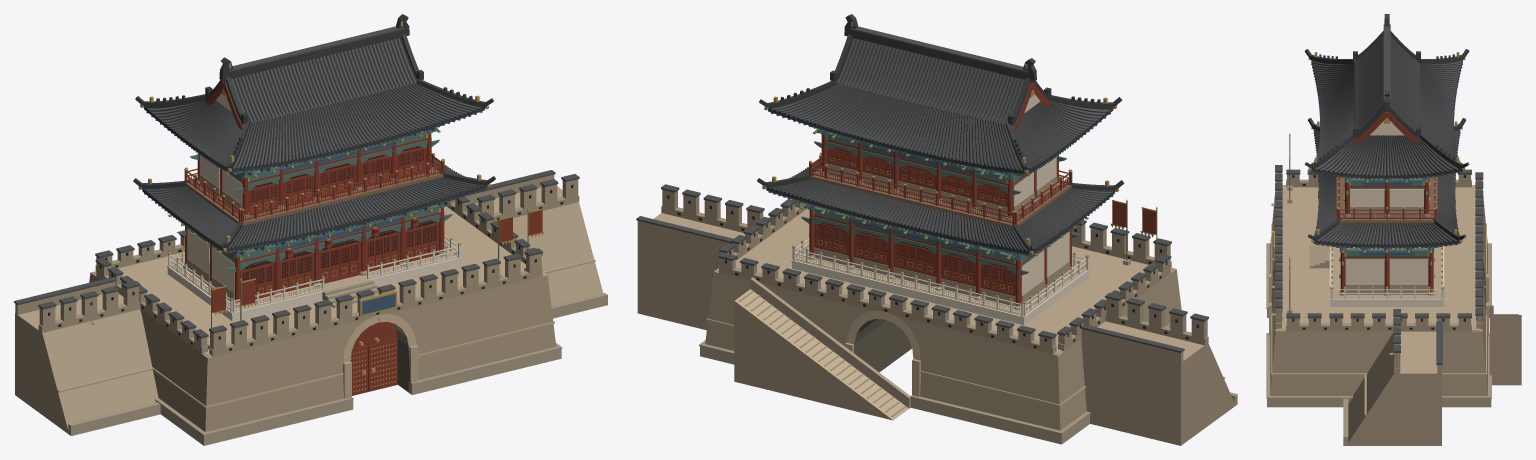
3 views of the same model, side by side, from view 1: azimuth 30°, elevation 25°; view 2: azimuth 150°, elevation 25°; view 3: azimuth 270°, elevation 25° (orthographic). The views are drawn at different scales.
Visible parts, largest first — view 1: K04b; view 2: K04b; view 3: K04b.
Part boxes in pixels (x1,y1,x2,y2): K04b: (14, 14, 607, 445); K04b: (636, 14, 1237, 445); K04b: (1266, 14, 1521, 445).
Size of the model in its own units: 54.9 by 30.81 by 25.61.
